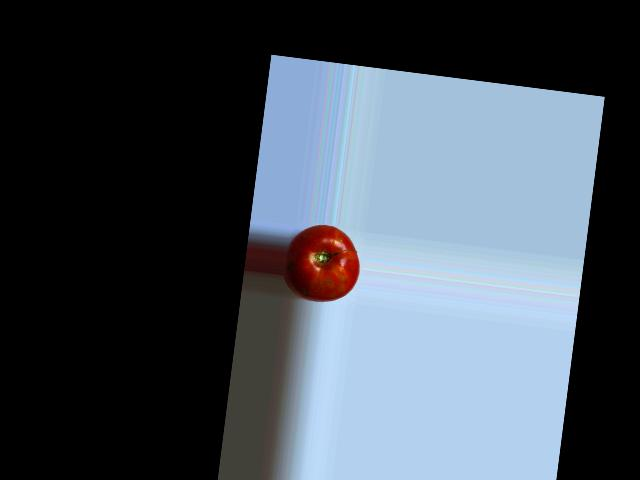tomato: (280, 220, 364, 306)
